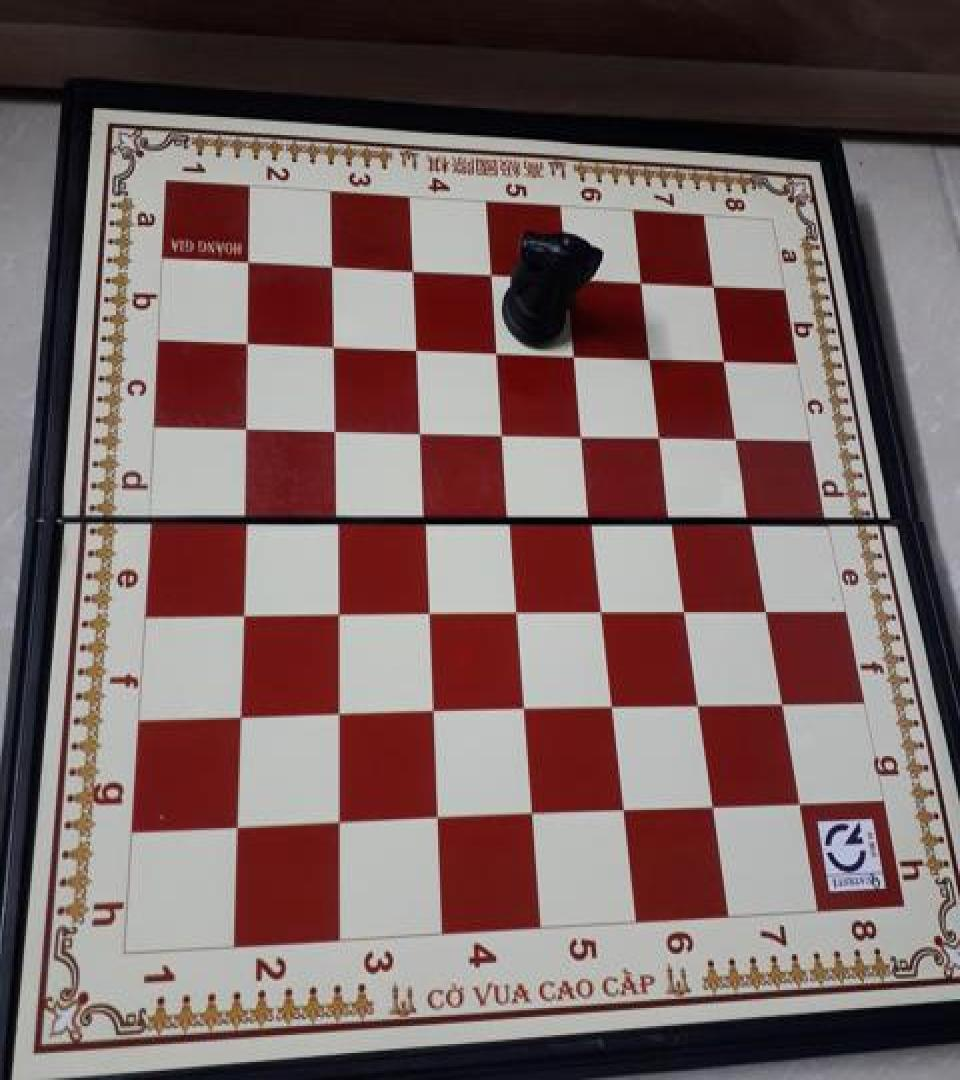xcorner: (597, 689, 629, 726), (223, 697, 255, 734), (697, 271, 729, 307), (550, 262, 582, 298), (473, 258, 505, 294), (394, 253, 426, 289), (313, 248, 345, 284), (229, 244, 261, 280), (709, 344, 741, 380), (635, 341, 667, 377), (558, 338, 590, 374), (479, 334, 511, 370), (398, 331, 430, 367), (314, 328, 346, 364), (228, 323, 260, 359), (722, 422, 754, 458), (646, 420, 678, 456), (567, 418, 599, 454), (486, 415, 518, 451), (402, 413, 434, 449), (316, 410, 348, 446), (227, 408, 259, 444), (736, 505, 768, 541), (657, 504, 689, 540), (576, 503, 608, 539), (493, 502, 525, 538), (407, 500, 439, 536), (318, 500, 350, 536), (226, 498, 258, 534), (750, 593, 782, 629), (669, 593, 701, 629), (586, 593, 618, 629), (500, 594, 532, 630), (411, 594, 443, 630), (319, 594, 351, 630), (224, 595, 256, 631), (766, 685, 798, 721), (683, 688, 715, 724), (508, 692, 540, 728), (416, 694, 448, 730), (321, 695, 353, 731), (782, 785, 814, 821), (697, 788, 729, 824), (608, 792, 640, 828), (517, 796, 549, 832), (422, 800, 454, 836), (323, 804, 355, 840), (221, 809, 253, 845), (624, 267, 656, 302)
